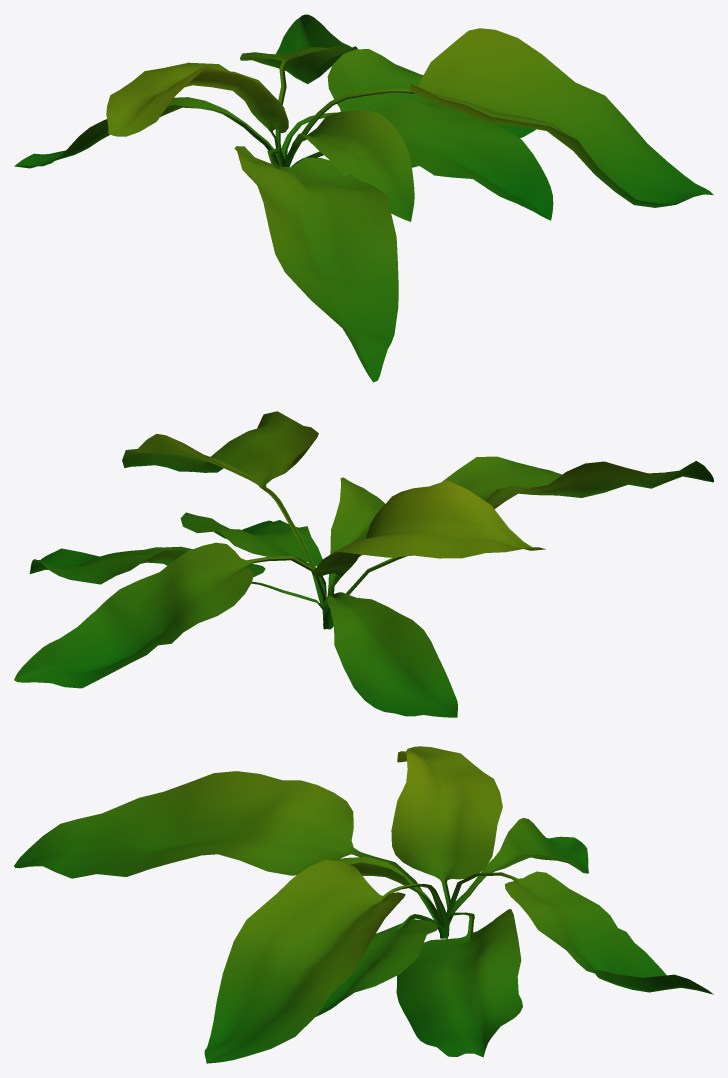
The model's file is weed_plant_02_0.glb.
The picture shows the model from 3 angles, top to bottom: view 1: azimuth 30°, elevation 25°; view 2: azimuth 150°, elevation 25°; view 3: azimuth 270°, elevation 25°; orthographic projection. The views are drawn at different scales.
Parts seen in each view (by area): view 1: weed_plant_02_a_LOD0; view 2: weed_plant_02_a_LOD0; view 3: weed_plant_02_a_LOD0.
Part boxes in pixels (bbox=[...]): weed_plant_02_a_LOD0: bbox=[14, 14, 713, 382]; weed_plant_02_a_LOD0: bbox=[14, 411, 713, 717]; weed_plant_02_a_LOD0: bbox=[14, 746, 713, 1063].
Bounding box in the file's own units: 0.2194 × 0.0725 × 0.2909.
